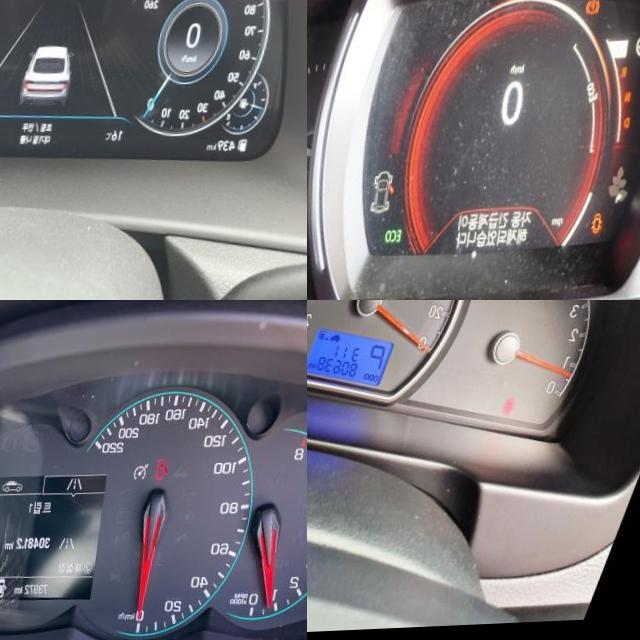Doors: (512, 399, 531, 421), (603, 214, 617, 237), (164, 461, 178, 484)
